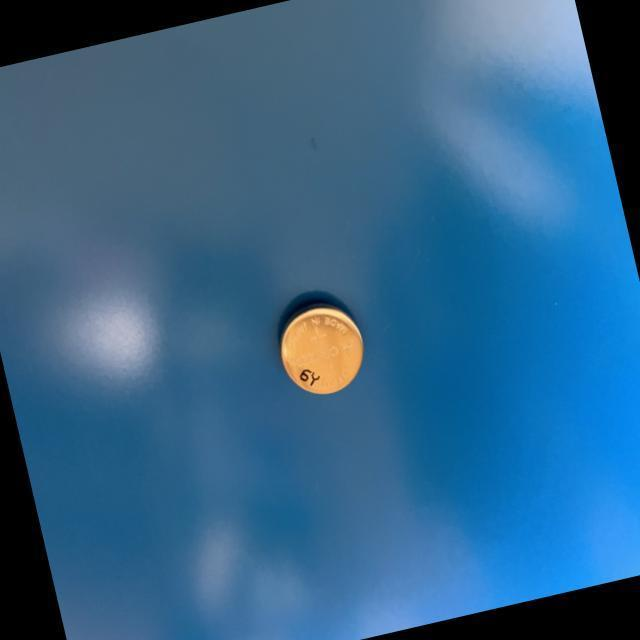COIN: (270, 296, 370, 402)
